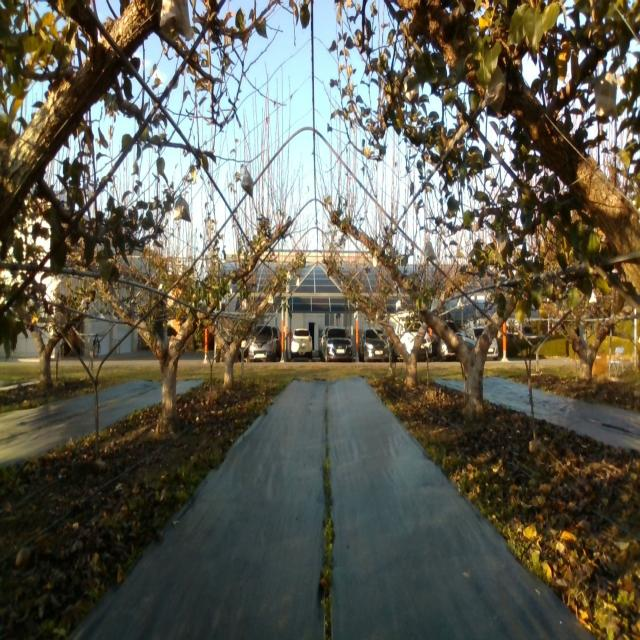pearbags: (151, 0, 193, 41), (594, 72, 617, 116), (173, 194, 191, 222), (241, 169, 254, 197), (423, 241, 437, 262)
